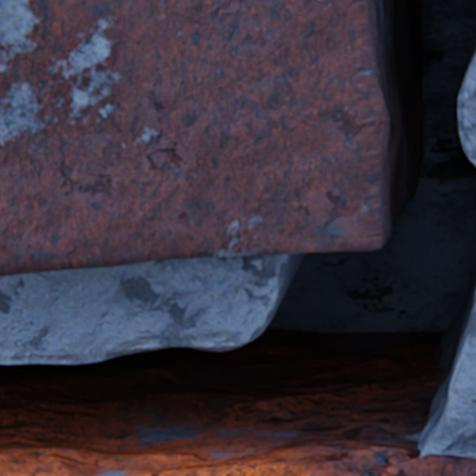brick: (0, 0, 388, 275), (0, 453, 475, 475)
crack: (0, 0, 475, 473)
